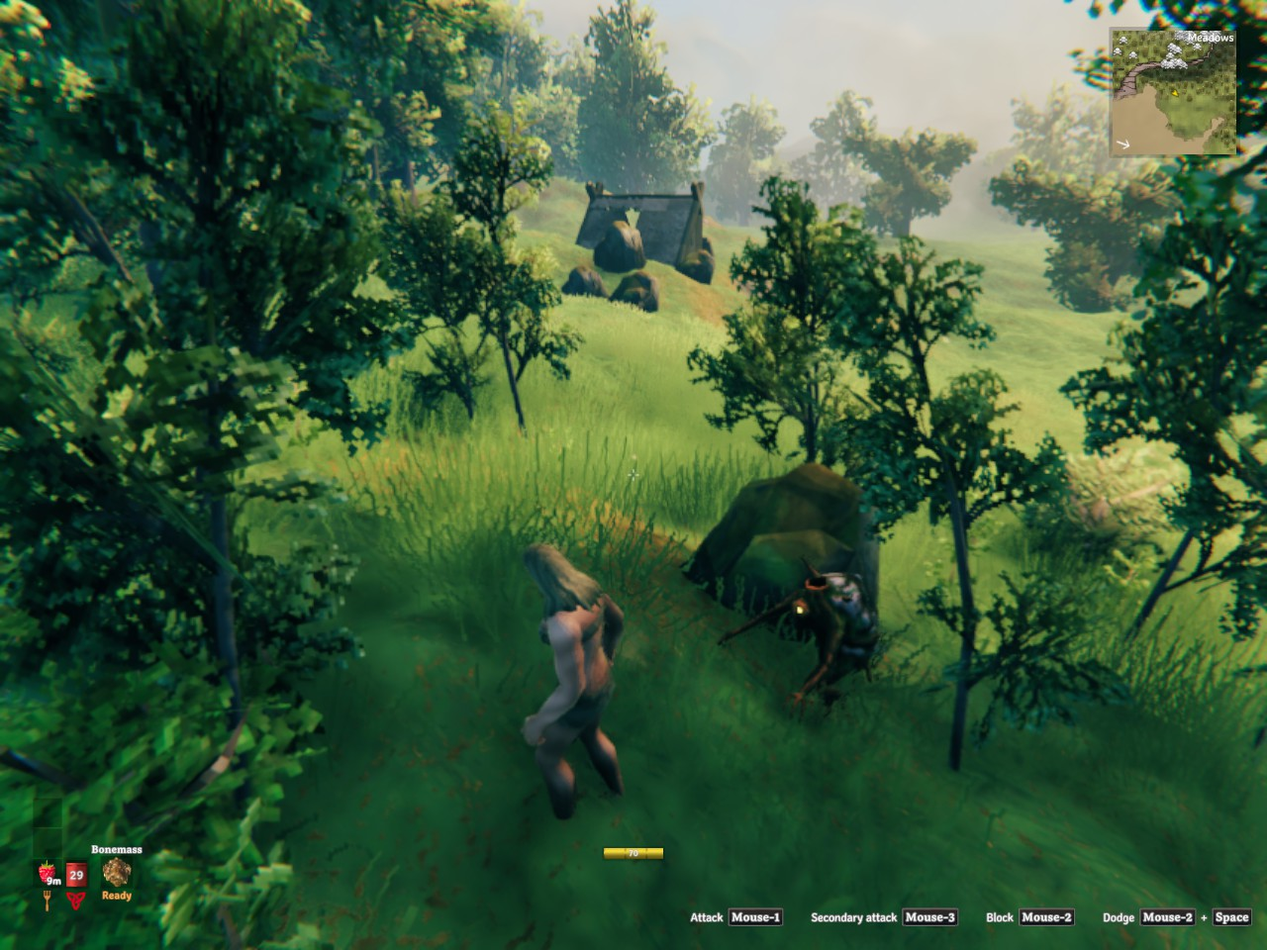Greyling: (719, 562, 878, 704)
House: (575, 177, 709, 270)
